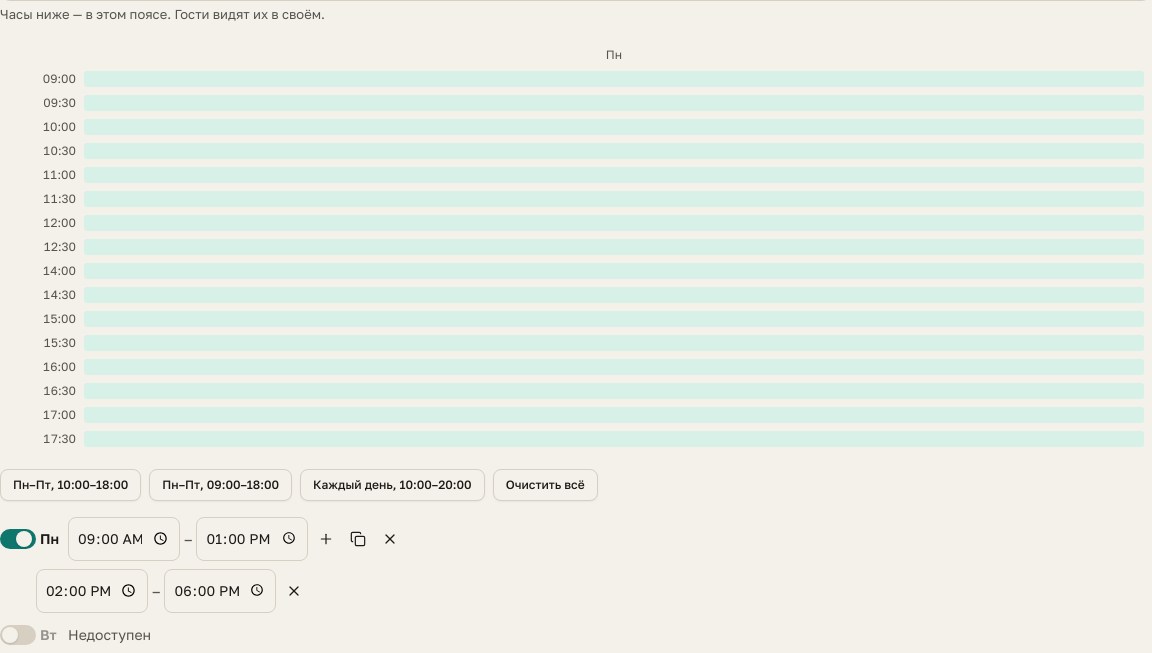
AvailabilitySettingsForm › применяет пресет ко всем рабочим дням
Click the button "Пн–Пт, 09:00–18:00".
click(221, 484)  # box x1=149 y1=468 x2=292 y2=500
(page scrolled)
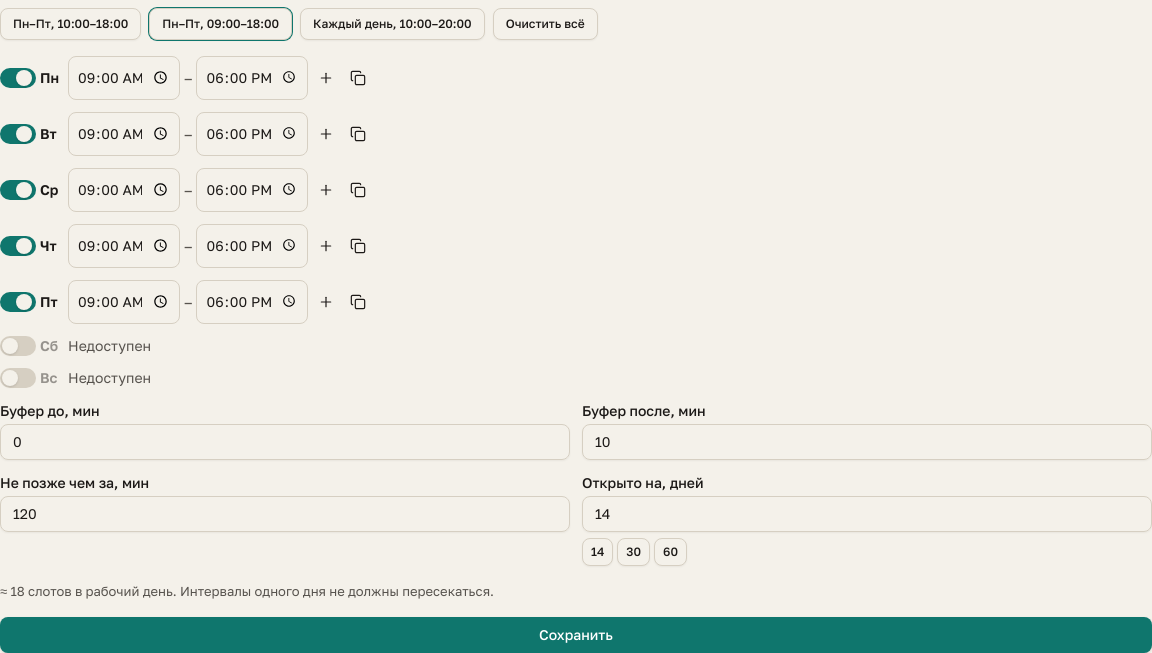
Expected: the time field named "Вт: начало 1" holds "09:00", x1=68 y1=112 x2=180 y2=156
Expected: the time field named "Пт: конец 1" holds "18:00", x1=196 y1=280 x2=308 y2=324
